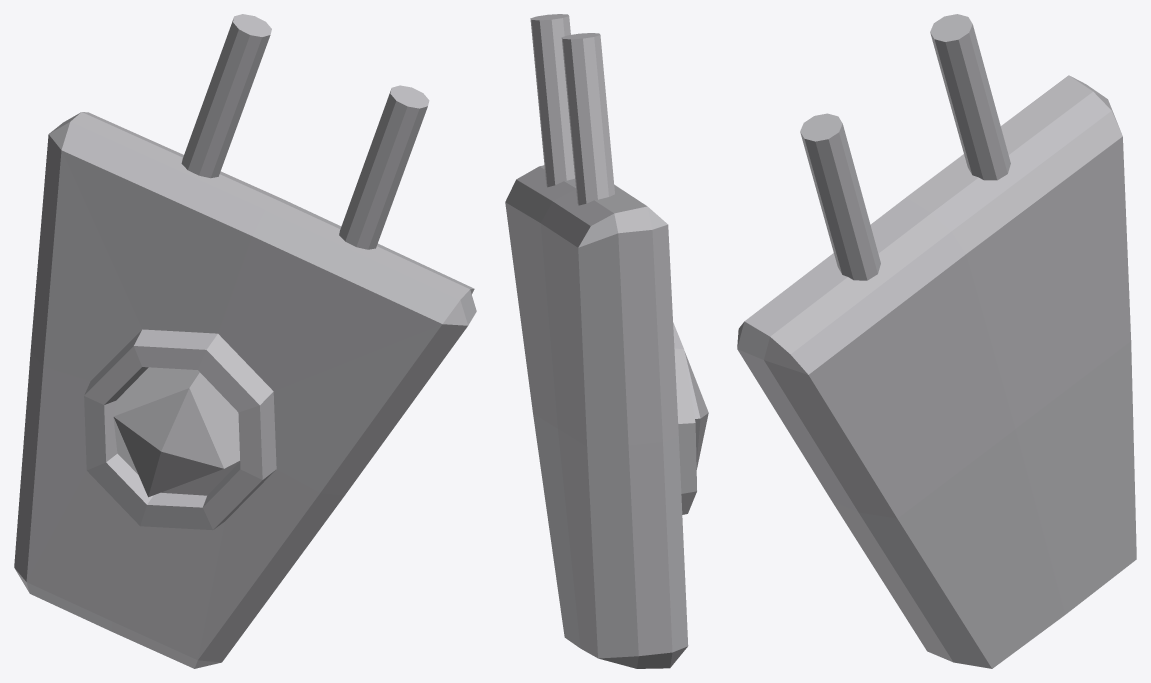
Rendered from Fighter_03_Flap.fbx.
The picture shows the model from 3 angles, left to right: view 1: azimuth 30°, elevation 25°; view 2: azimuth 150°, elevation 25°; view 3: azimuth 270°, elevation 25°; orthographic projection. The views are drawn at different scales.
Parts seen in each view (by area): view 1: Fighter_03_Flap; view 2: Fighter_03_Flap; view 3: Fighter_03_Flap.
Boxes of the visible parts, box(x1,y1,x2,y2) form: Fighter_03_Flap: box(14, 14, 476, 668); Fighter_03_Flap: box(505, 14, 708, 668); Fighter_03_Flap: box(737, 14, 1136, 668).
Bounding box in the file's own units: 55.99 × 107 × 58.57.
Materials: 1 (1 with a texture image).
